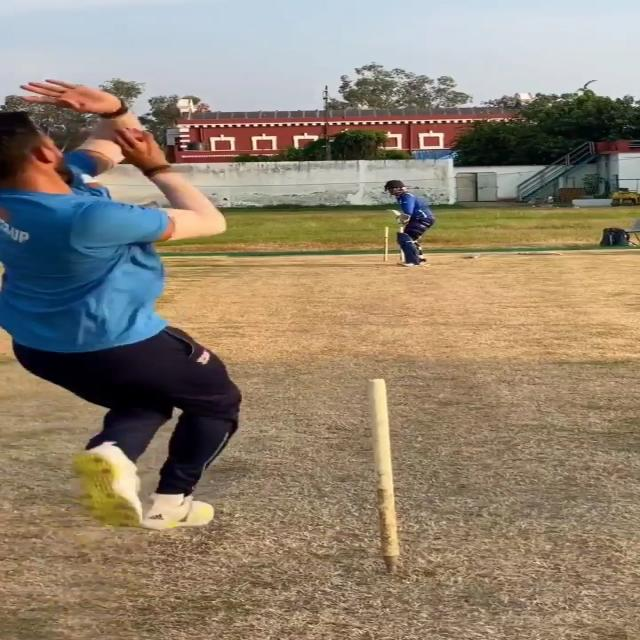stump: (384, 225, 406, 262)
